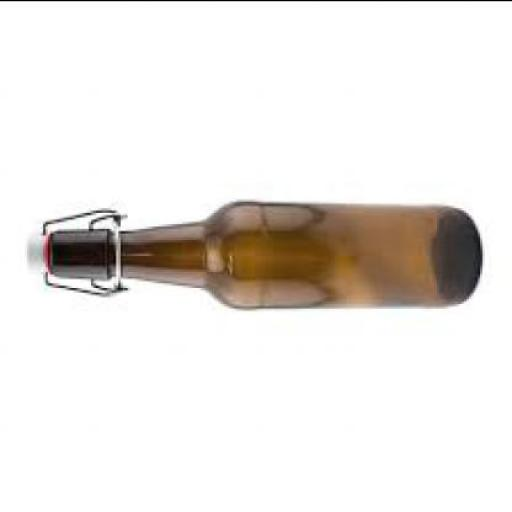glass: (46, 196, 480, 307)
plastic: (25, 226, 45, 268)
